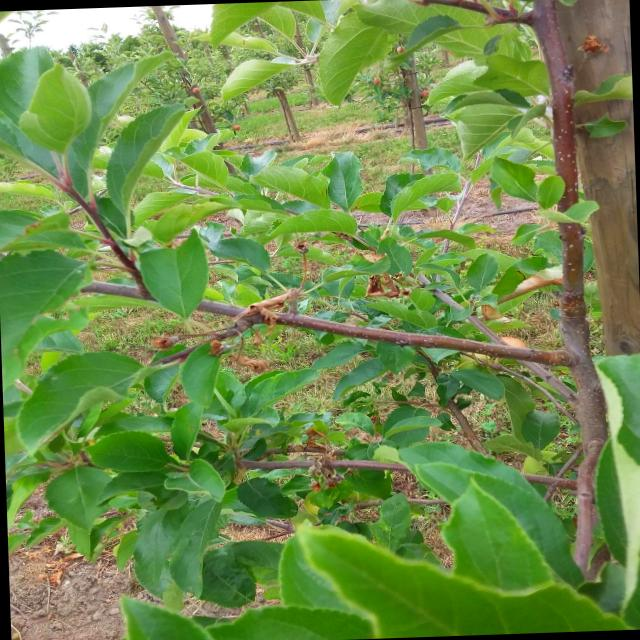-FireBlight-: (240, 292, 282, 334)
